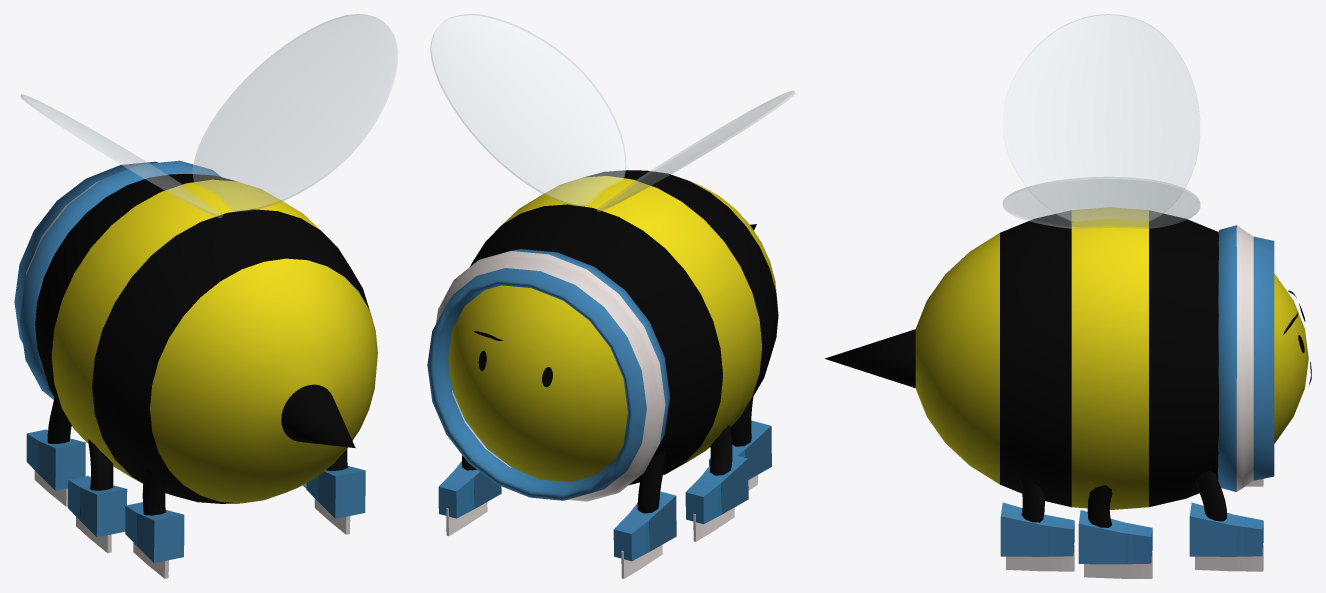
Rendered from Cee Hive.glb.
The picture shows the model from 3 angles, left to right: view 1: azimuth 30°, elevation 25°; view 2: azimuth 150°, elevation 25°; view 3: azimuth 270°, elevation 25°; orthographic projection. The views are drawn at different scales.
Parts seen in each view (by area): view 1: Body.003, wing right, ice skates.001, Scarf, wing left, Legs.003; view 2: Body.003, wing right, Scarf, ice skates.001, Legs.003, wing left; view 3: Body.003, wing left, Scarf, ice skates.001, wing right, Legs.003.
Part boxes in pixels (x1,y1,x2,y2): Body.003: [35, 174, 377, 503]; wing right: [193, 14, 398, 210]; ice skates.001: [26, 429, 365, 578]; Scarf: [14, 160, 220, 399]; wing left: [20, 94, 223, 217]; Legs.003: [47, 397, 347, 515]; Body.003: [448, 170, 778, 485]; wing right: [430, 14, 626, 206]; Scarf: [427, 249, 669, 501]; ice skates.001: [438, 420, 771, 578]; Legs.003: [462, 397, 753, 513]; wing left: [597, 91, 794, 211]; Body.003: [825, 207, 1308, 509]; wing left: [1003, 14, 1199, 221]; Scarf: [1218, 225, 1274, 492]; ice skates.001: [1000, 479, 1263, 578]; wing right: [1003, 177, 1199, 228]; Legs.003: [1020, 470, 1226, 527].
Bounding box in the file's own units: 1.74 × 2.16 × 2.19.
4 materials, 4 textured.
